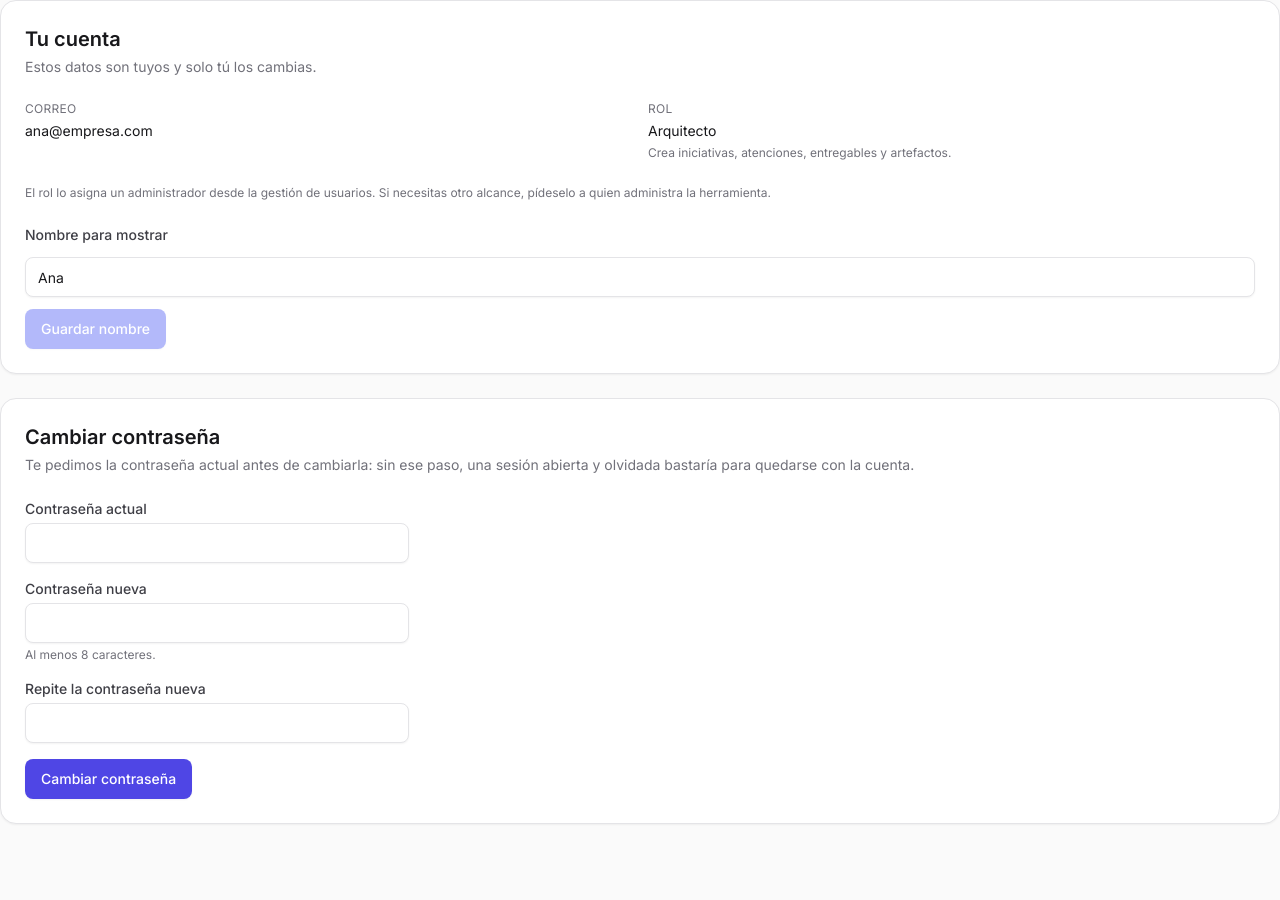
Test: changing the password › refuses a password shorter than the stated minimum
The width and height of the screenshot is (1280, 900).
Type "anterior-123" into the password field labelled "Contraseña actual". click: (217, 543)
box: [25,523,409,563]
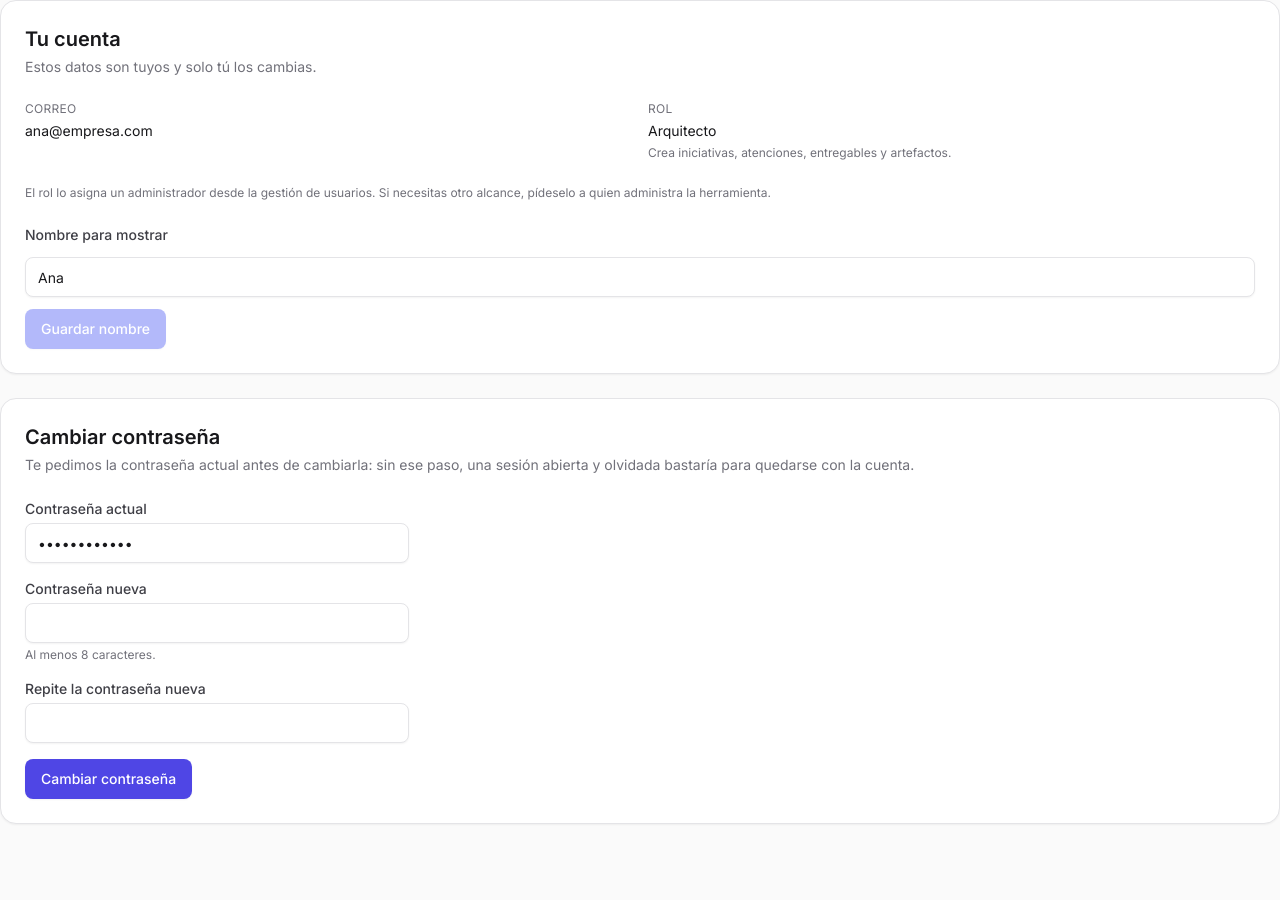
Type "corta" into the password field labelled "Contraseña nueva". click: (217, 623)
box: [25,603,409,643]
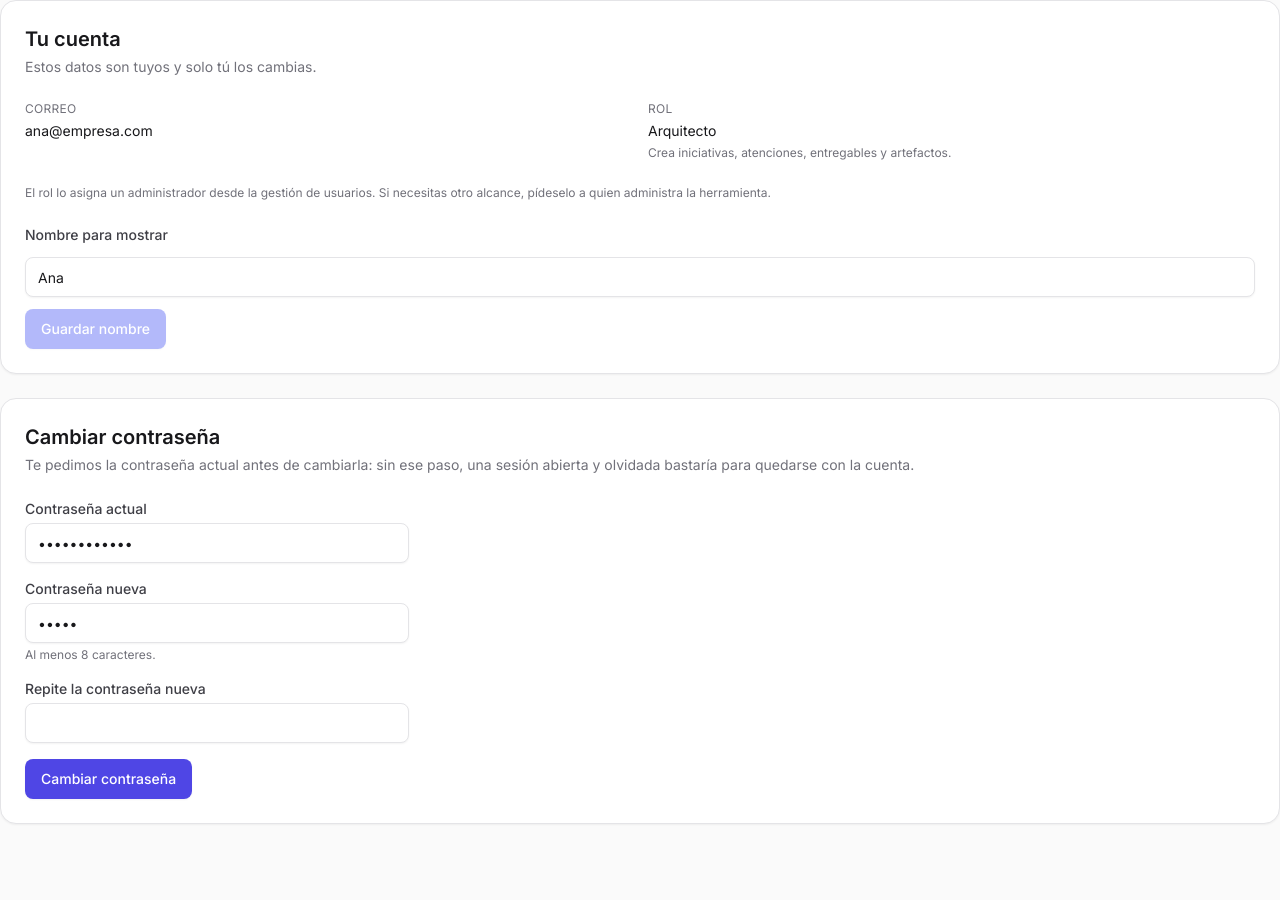
Type "corta" into the password field labelled "Repite la contraseña nueva". click: (217, 723)
box: [25,703,409,743]
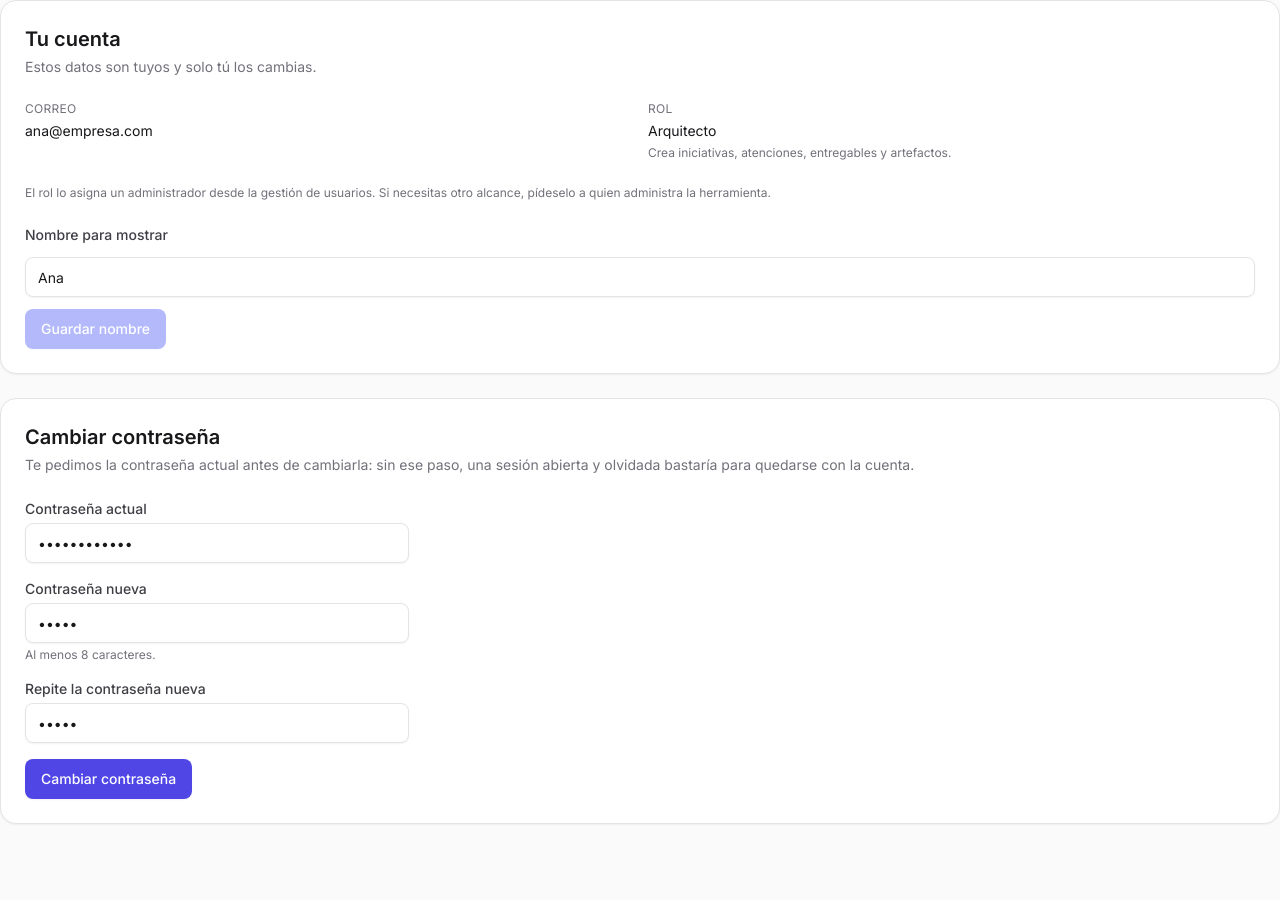
Click the button "Cambiar contraseña". click: (109, 779)
box: [25,759,192,799]
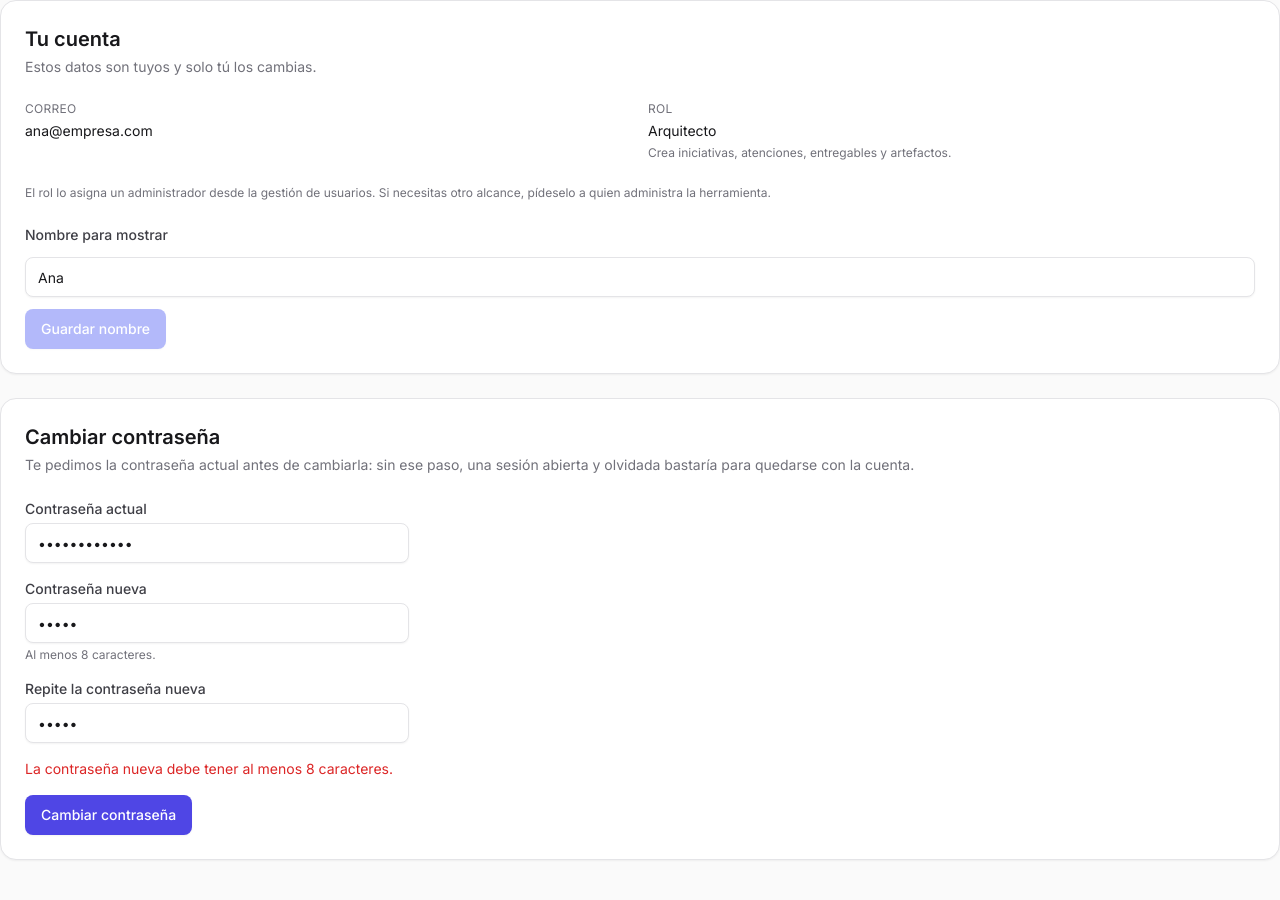
Now the message shows "al menos 8 caracteres", box [25,760,393,777]
